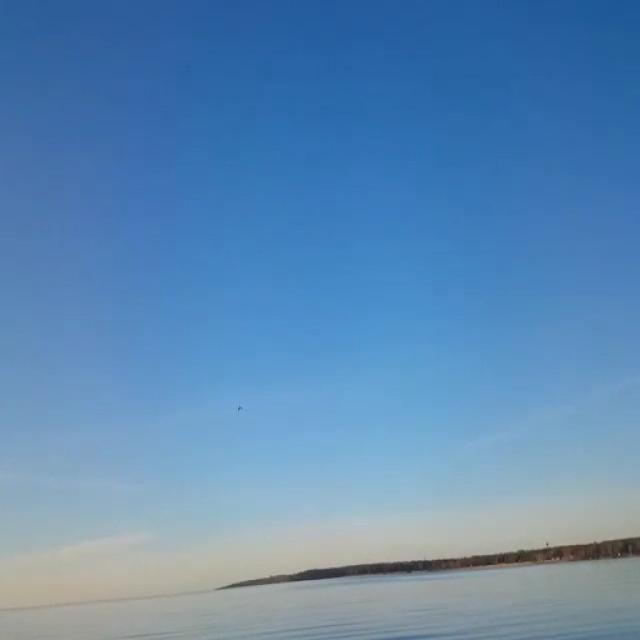bird: (237, 402, 243, 412)
